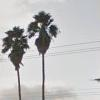Tree: (7, 9, 59, 89)
